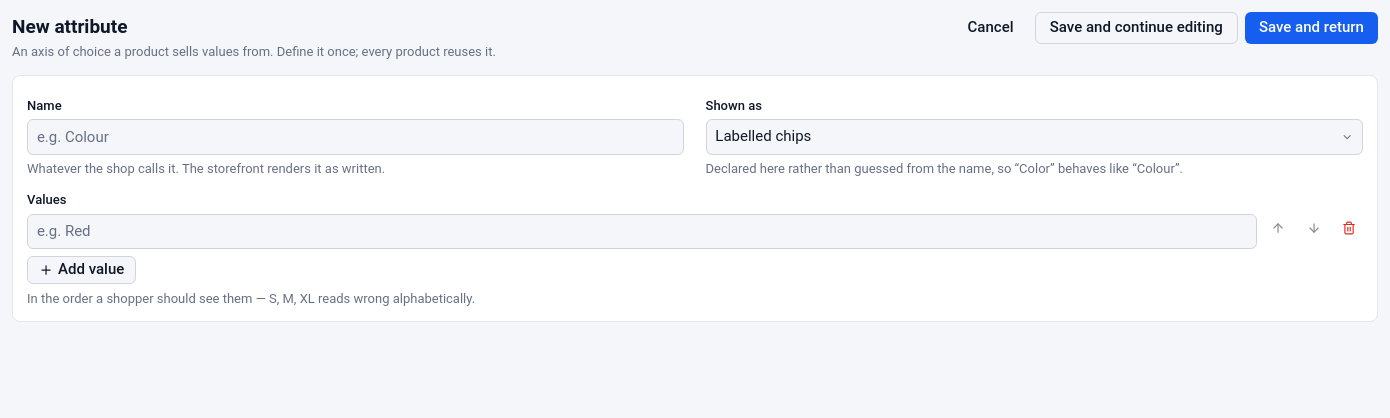
AttributeFormPage — an attribute keeps at least one value › refuses a save where every remaining row is blank
The image size is (1390, 418).
Step 1. Type "Colour" into the field labelled "Name" → (356, 137), box [27, 119, 684, 155]
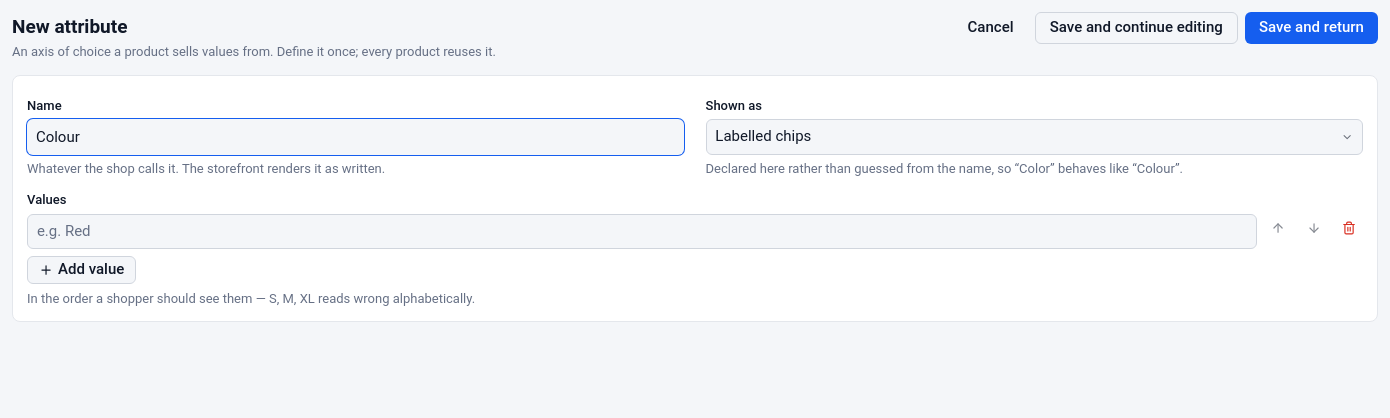
Step 2. Type "Red" into the field named "Value 1" → (642, 232), box [27, 214, 1257, 249]
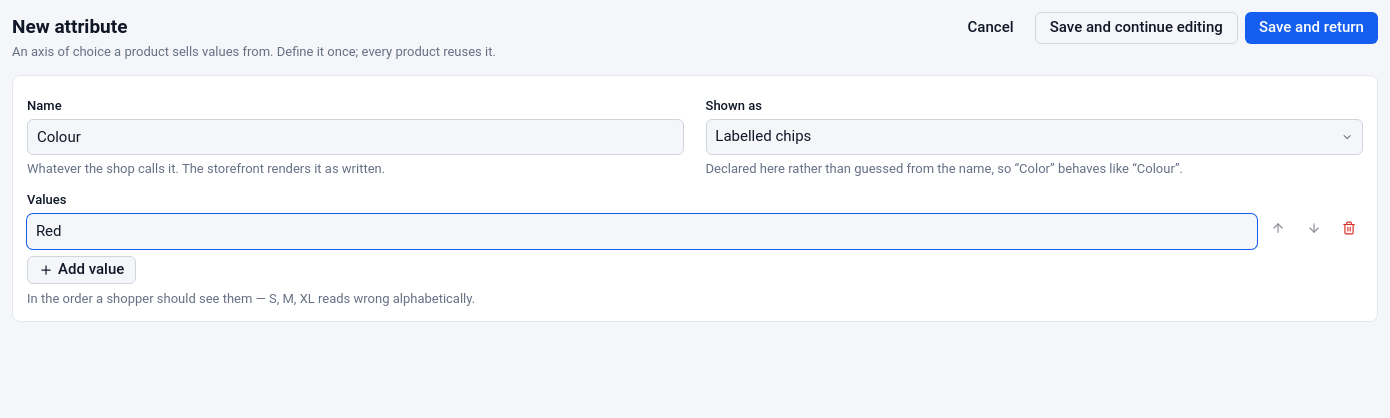
Step 3. Clear the field named "Value 1" → (642, 232), box [27, 214, 1257, 249]
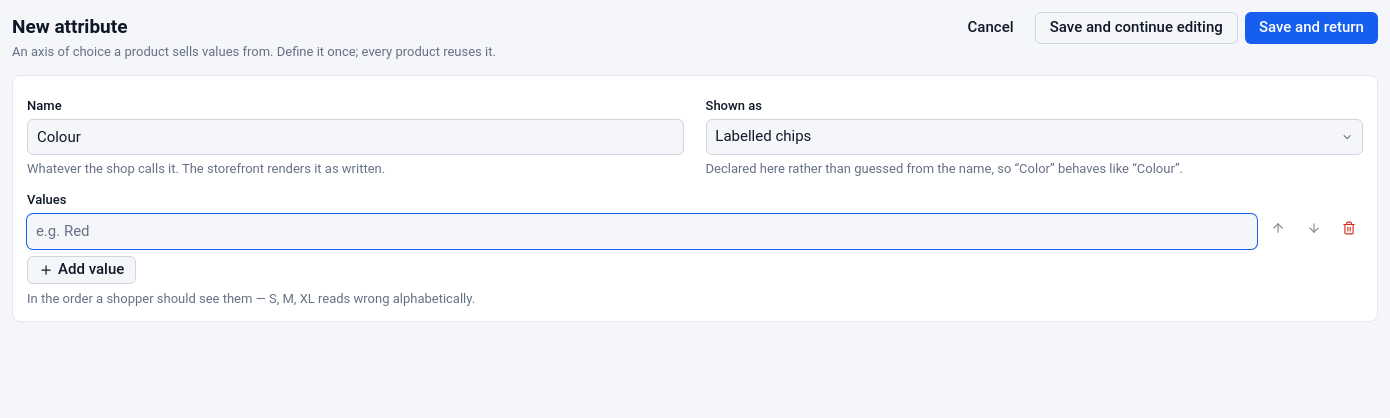
Step 4. Click the button "Save and continue editing" → click(1136, 28), box [1035, 12, 1238, 44]
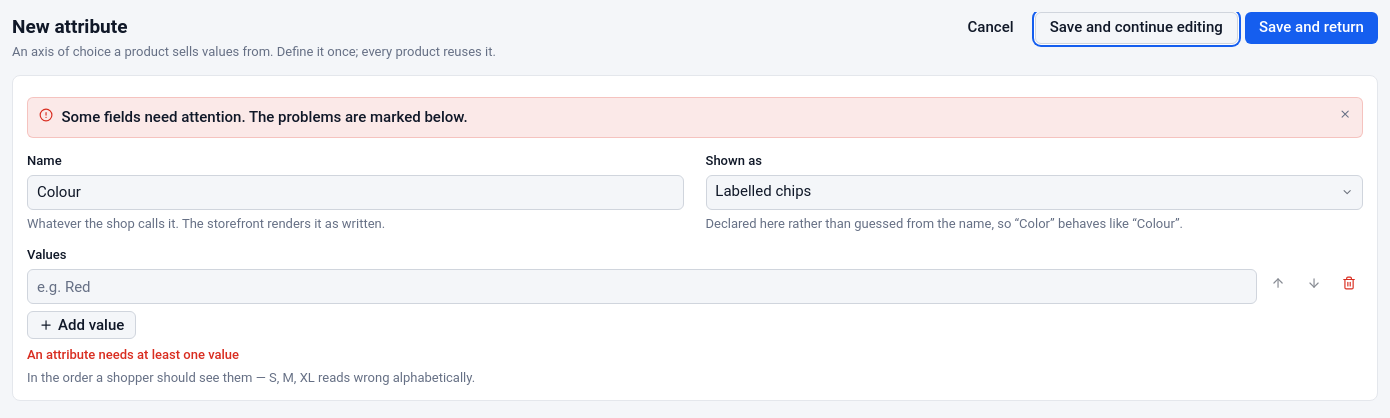
Expected: the text "An attribute needs at least one value" is shown, [27, 347, 239, 362]
